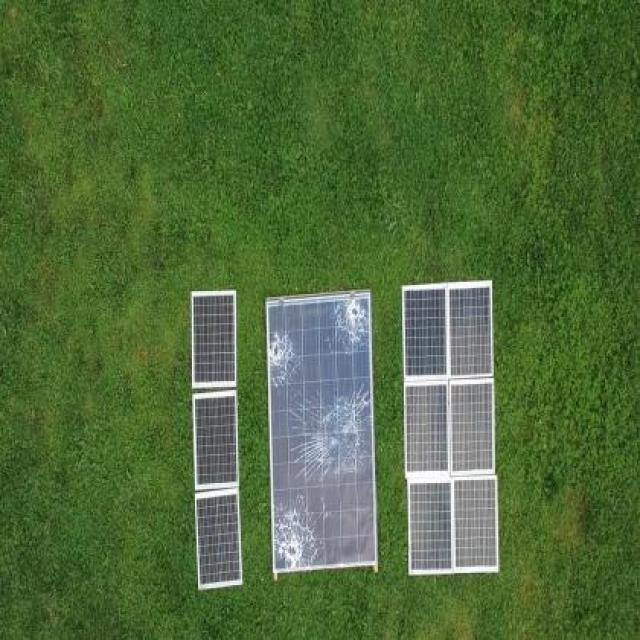cracked: (265, 288, 380, 579)
